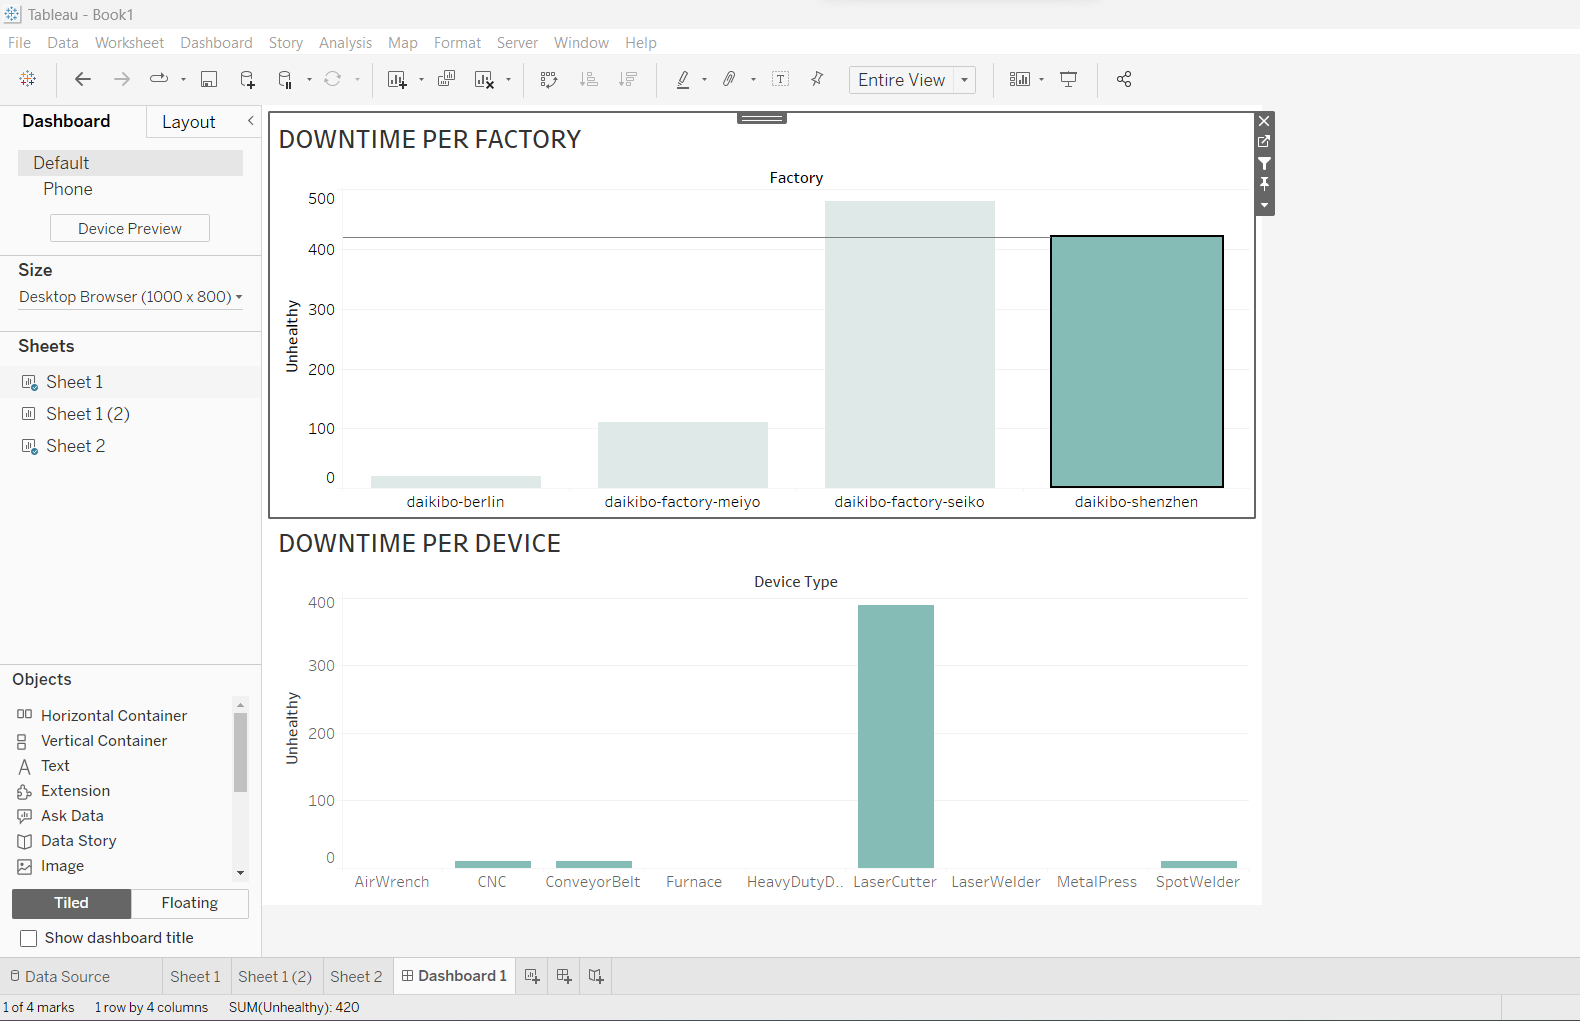

Layout of this report page (visuals, bound fields, positions):
{"tool":"tableau","page":{"name":"Dashboard 1","canvas":[1000,800],"ordinal":0},"visuals":[{"type":"worksheet","title":"Sheet 1","mark":"Automatic","rows":["Calculation_2538059912631091200"],"cols":["factory"],"box":[8,8,984,404]},{"type":"worksheet","title":"Sheet 2","mark":"Automatic","rows":["Calculation_2538059912631091200"],"cols":["deviceType"],"box":[8,412,984,380]}]}

Visuals, with their boxes on the page's 1000x800 design canvas (x1, y1, x2, y2). These are canvas units, not pixel positions in the 1580x1021 screenshot, which may show the page scaled, cropped or inside an application window:
"Sheet 1" worksheet: rect(8, 8, 992, 412)
"Sheet 2" worksheet: rect(8, 412, 992, 792)
